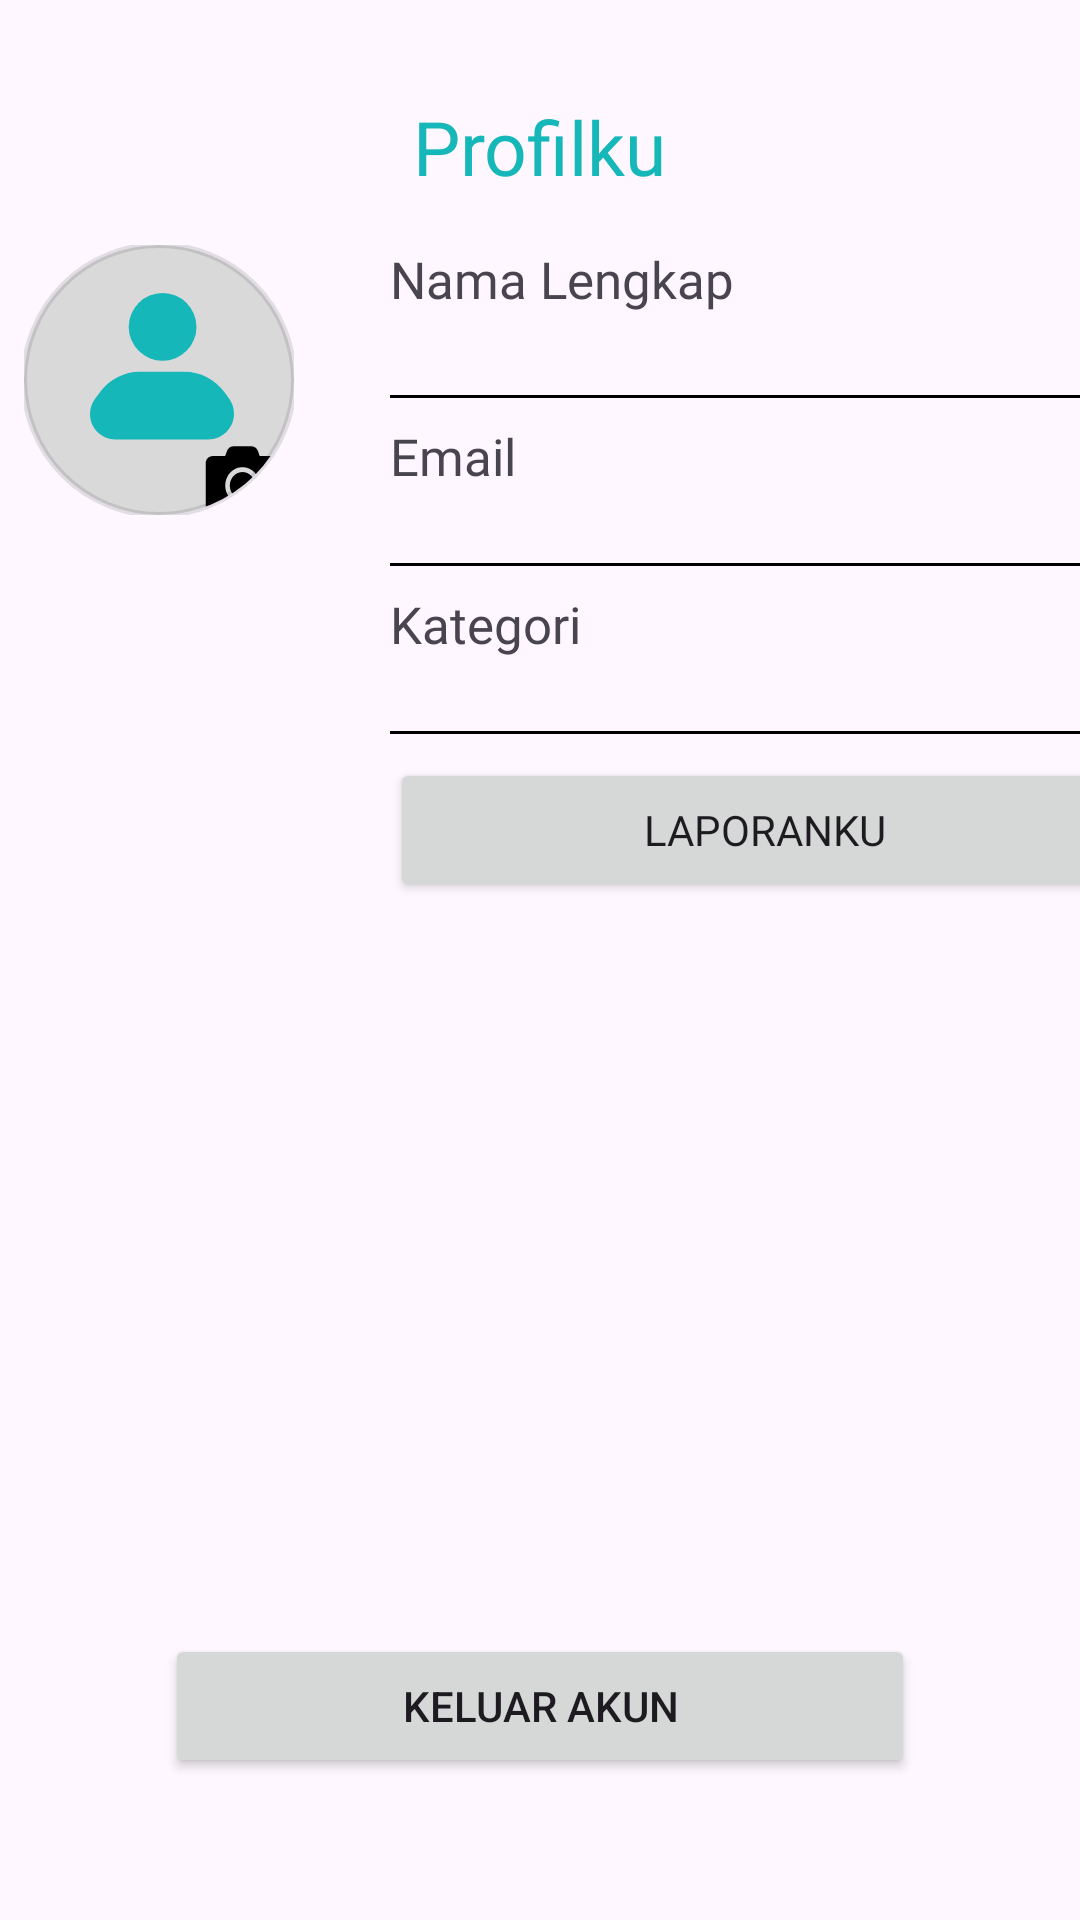

Locate icon controls on the screen. Image size 1080 x 1920, boxes as (x1, y1, x2, y2).
profile user: (24, 245, 294, 515)
